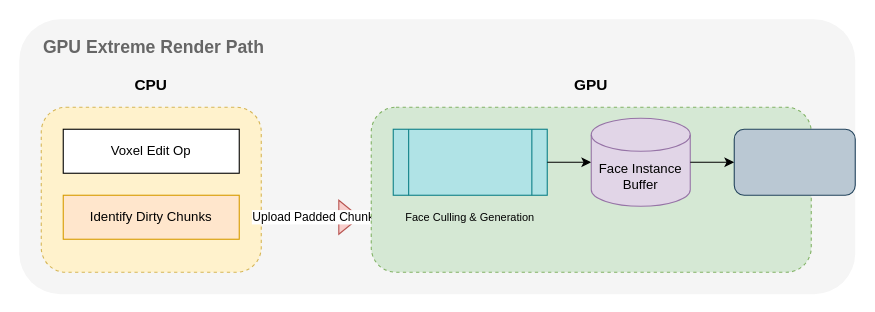
Some shapes in this 875 by 312 pixel diagram are drawn without their labels. Here are the shapes that lost their labels. From the top down, the box of each, then its label:
(392, 128, 547, 195): Compute Shader
(733, 128, 855, 195): Viewport Render (Instanced Draw)
